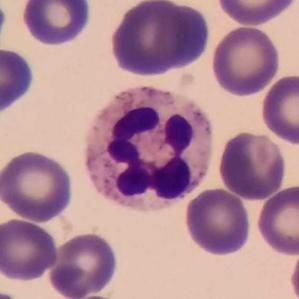Neutrophil: (76, 74, 219, 216)
RBC: (106, 0, 212, 78), (0, 148, 76, 223), (208, 24, 282, 98), (215, 129, 289, 201), (48, 228, 123, 298), (182, 185, 253, 258), (0, 215, 60, 282), (18, 0, 94, 49), (254, 183, 299, 257), (258, 72, 299, 147), (0, 44, 38, 120), (213, 0, 299, 27), (287, 241, 298, 299)
